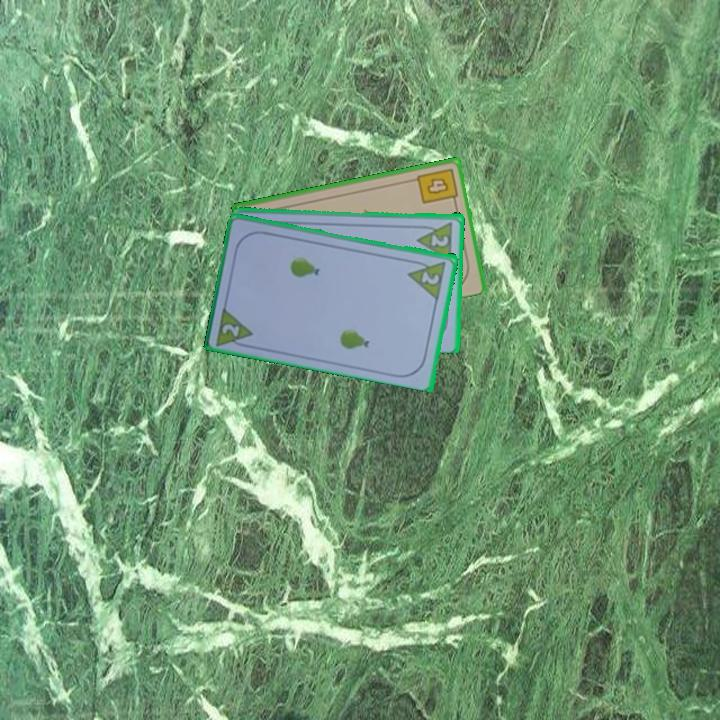2p: (213, 303, 257, 351), (405, 256, 449, 301), (414, 218, 455, 262)
4b: (413, 164, 460, 207)
